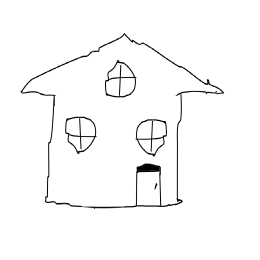closed_window: (61, 112, 107, 156), (101, 60, 145, 104), (133, 114, 174, 158)
door: (129, 158, 168, 212)
single_line_roof: (18, 27, 230, 100)
wall: (41, 88, 191, 213)
